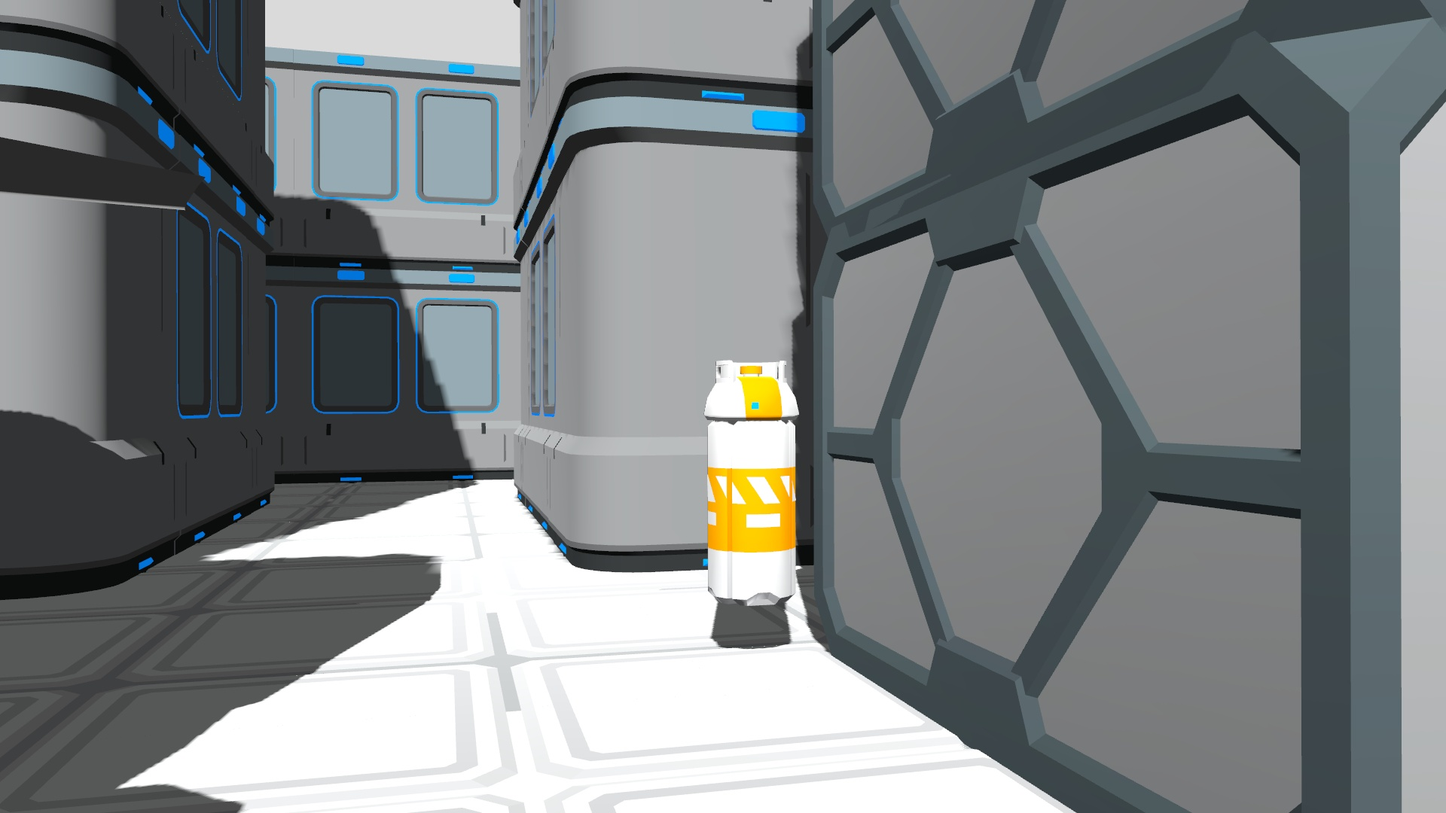yellow_barrel: (699, 356, 801, 612)
